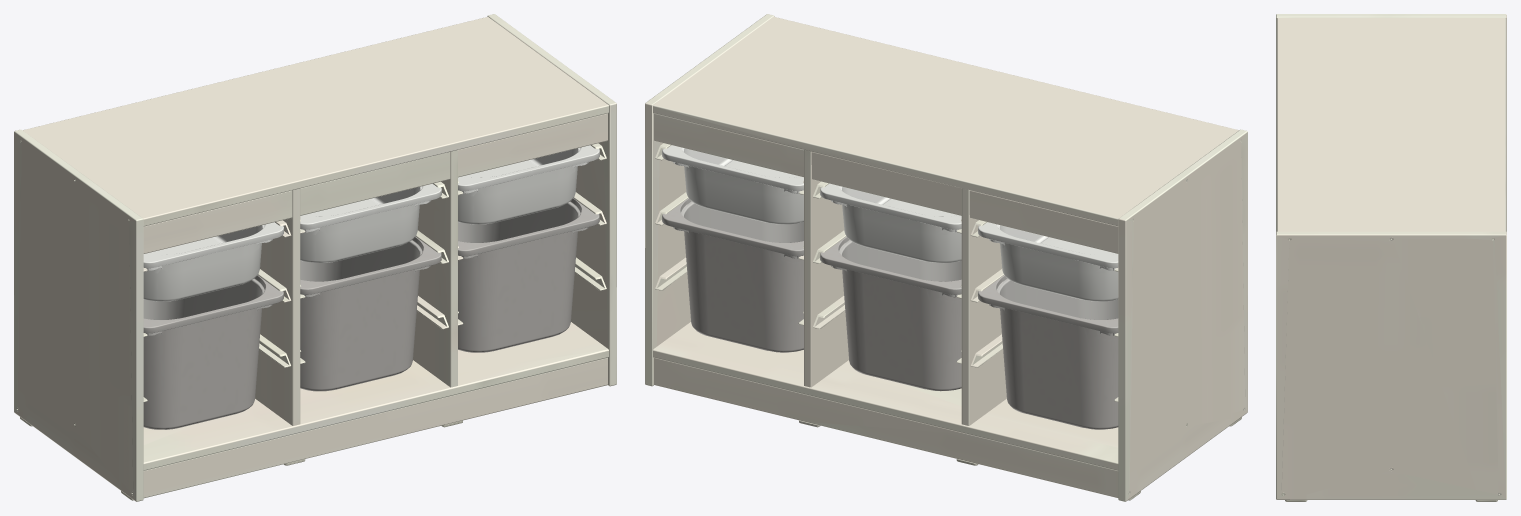
File: trofast_rega_z_pojemnikami_89574467.glb
3 views of the same model, side by side, from view 1: azimuth 30°, elevation 25°; view 2: azimuth 150°, elevation 25°; view 3: azimuth 270°, elevation 25° (orthographic). The views are drawn at different scales.
Visible parts, largest first — view 1: trofast_rega_z_pojemnikami_89574467; view 2: trofast_rega_z_pojemnikami_89574467; view 3: trofast_rega_z_pojemnikami_89574467.
Part boxes in pixels (x1,y1,x2,y2): trofast_rega_z_pojemnikami_89574467: (14, 14, 616, 501); trofast_rega_z_pojemnikami_89574467: (645, 14, 1247, 501); trofast_rega_z_pojemnikami_89574467: (1276, 14, 1506, 501).
Size of the model in its own units: 0.988 by 0.558 by 0.4358.
3 materials, 3 textured.
